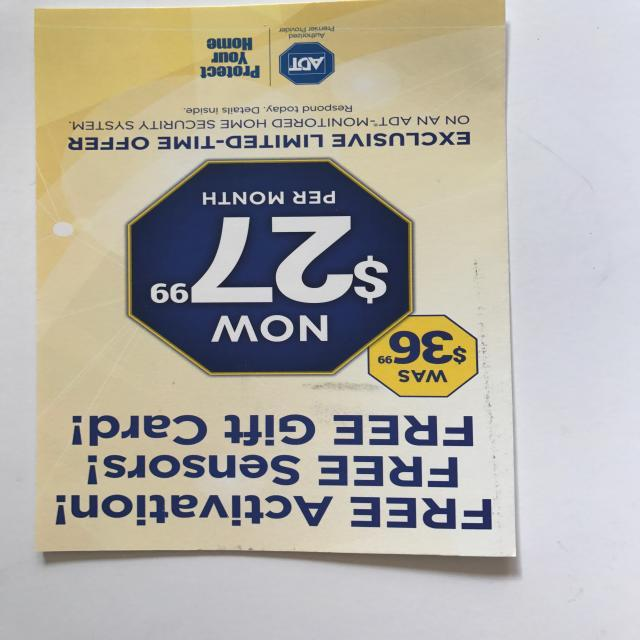paper: (28, 3, 522, 561)
